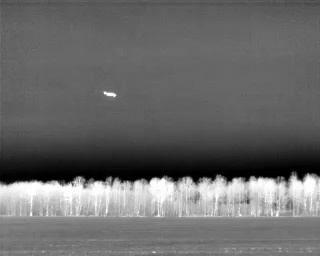DRONE: (100, 86, 120, 102)
